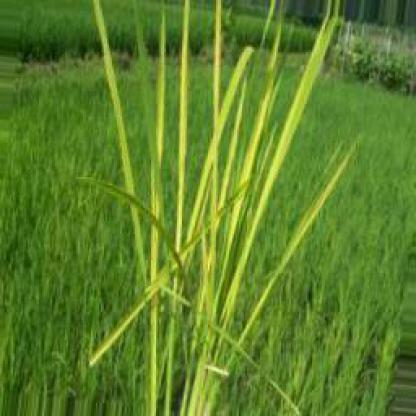Tungro: (246, 1, 342, 244), (248, 150, 356, 312), (91, 1, 148, 290), (185, 52, 257, 263), (158, 294, 248, 414), (146, 1, 169, 414), (177, 2, 189, 286), (211, 1, 223, 246)
